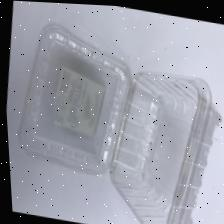plastic: (15, 20, 218, 224)
